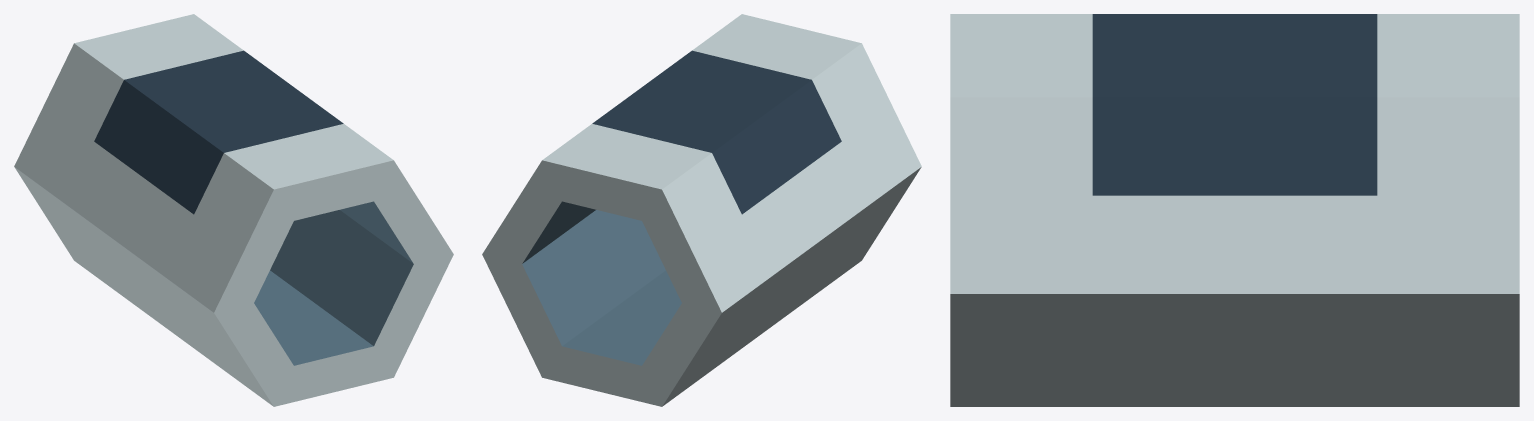
The model's file is pipe_straight.glb.
The picture shows the model from 3 angles, left to right: view 1: azimuth 30°, elevation 25°; view 2: azimuth 150°, elevation 25°; view 3: azimuth 270°, elevation 25°; orthographic projection. The views are drawn at different scales.
Visible parts, largest first — view 1: pipe_straight; view 2: pipe_straight; view 3: pipe_straight.
Part boxes in pixels (<box>): pipe_straight: <box>14,14,453,406</box>; pipe_straight: <box>482,14,921,406</box>; pipe_straight: <box>950,14,1519,406</box>.
Bounding box in the file's own units: 0.6928 × 0.6 × 1.
